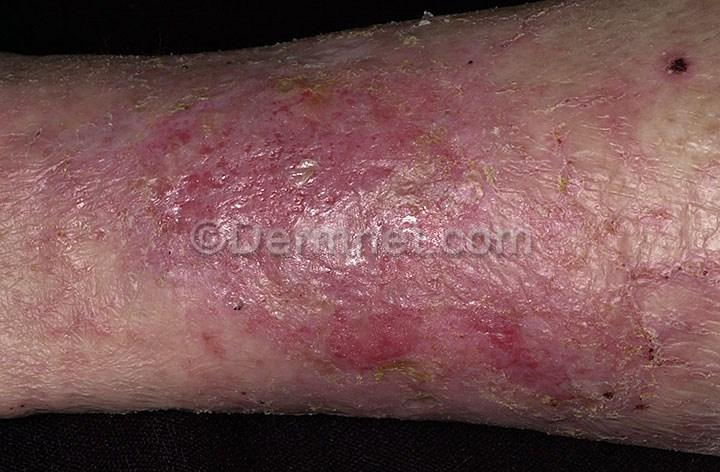Eczema: (188, 87, 302, 202), (490, 283, 586, 404), (408, 278, 490, 410), (472, 88, 569, 198), (101, 106, 193, 220), (413, 181, 523, 276), (295, 103, 379, 210), (21, 303, 126, 382), (591, 284, 677, 380), (245, 287, 330, 380), (519, 195, 611, 280), (293, 31, 397, 103), (176, 202, 263, 286), (583, 74, 645, 188), (335, 278, 418, 363), (21, 197, 107, 272), (395, 25, 487, 94), (330, 202, 413, 276), (267, 207, 339, 290), (103, 214, 178, 292), (2, 111, 83, 182), (489, 9, 563, 86), (377, 92, 456, 164), (655, 298, 713, 395), (615, 202, 678, 280), (583, 378, 680, 423), (329, 362, 411, 412), (178, 314, 241, 377), (650, 34, 709, 101), (678, 236, 718, 317), (16, 75, 91, 118), (94, 72, 152, 108)
